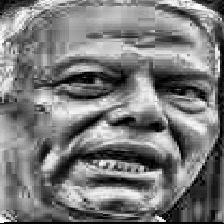angry: (4, 10, 224, 223)
